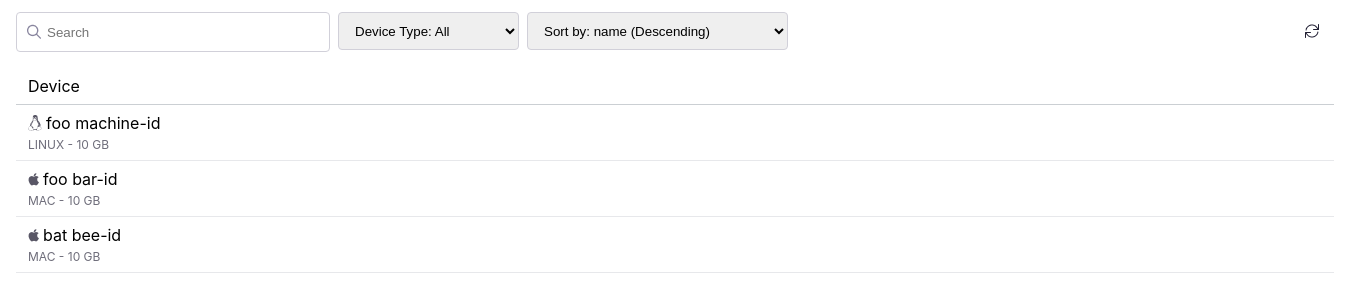
Scenario: DevicesTable › should filter by type
The width and height of the screenshot is (1351, 290).
Select "Device Type: Mac" in the dropdown with test id "device-select" at [428, 31], box x1=338 y1=12 x2=519 y2=50
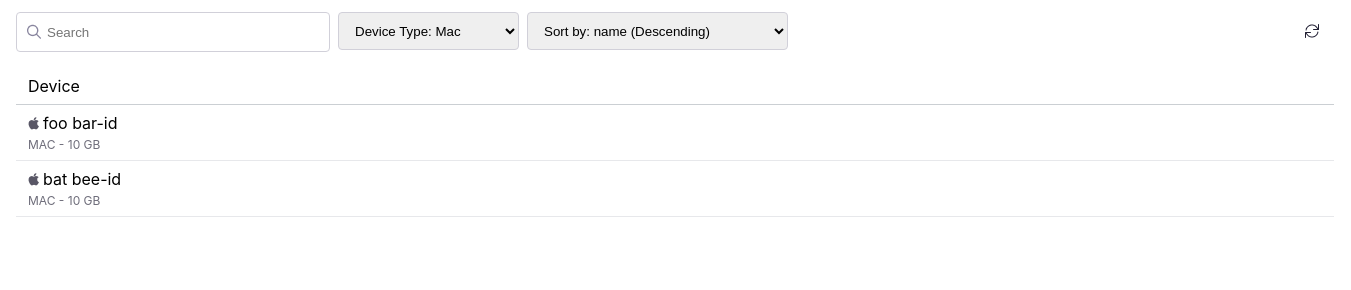
Result: the text "foo machine-id" is gone
Result: the text "foo bar-id" is shown at x1=43 y1=113 x2=118 y2=133
